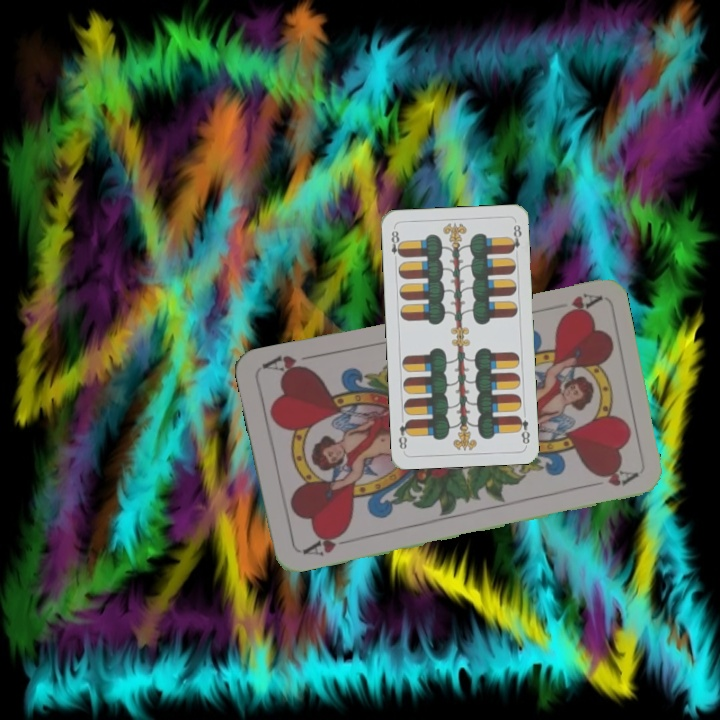E8: (387, 226, 405, 265), (513, 411, 533, 446)
HA: (543, 288, 602, 320), (298, 526, 355, 559)
